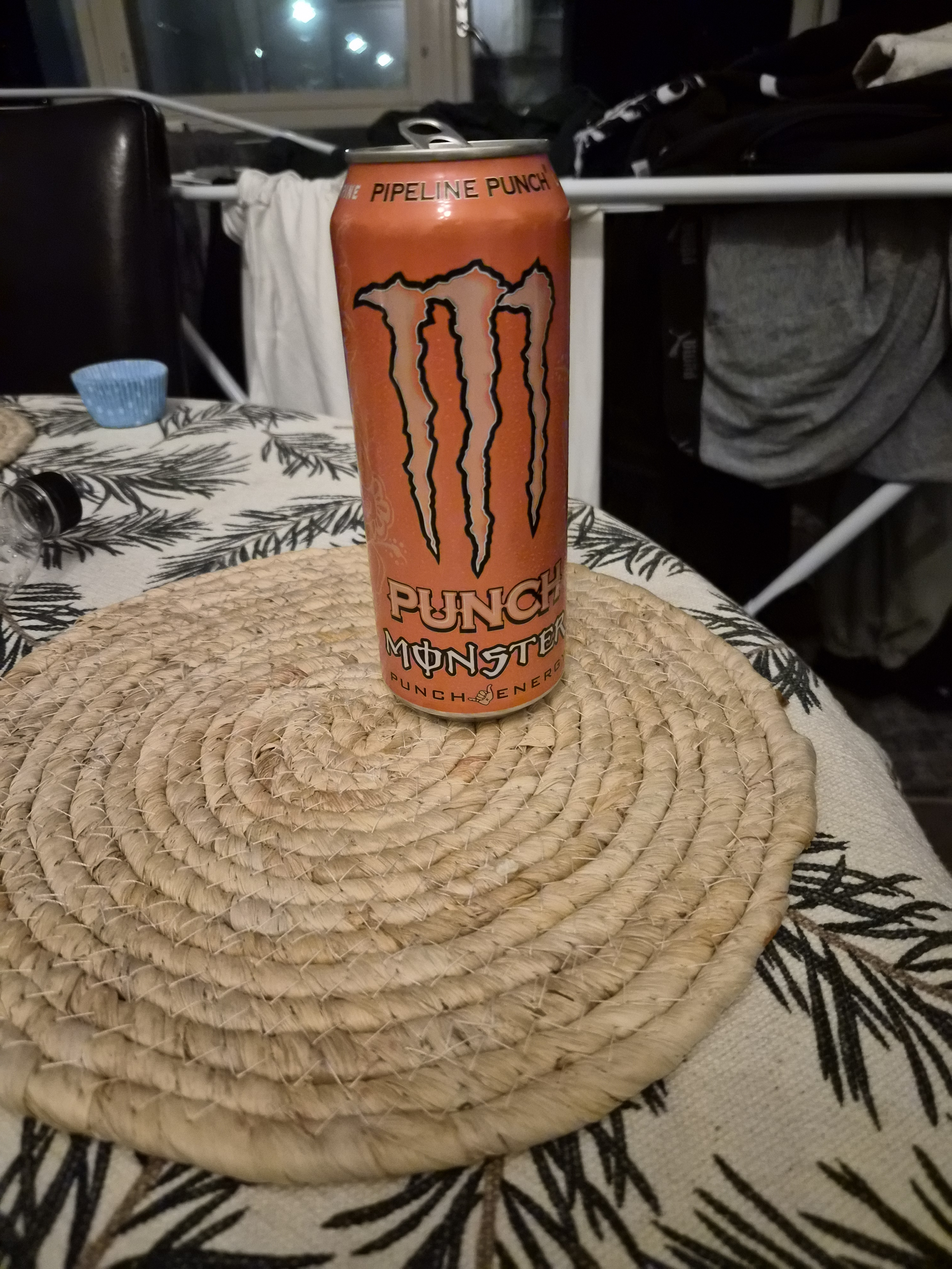Pantburk: (313, 112, 572, 723)
